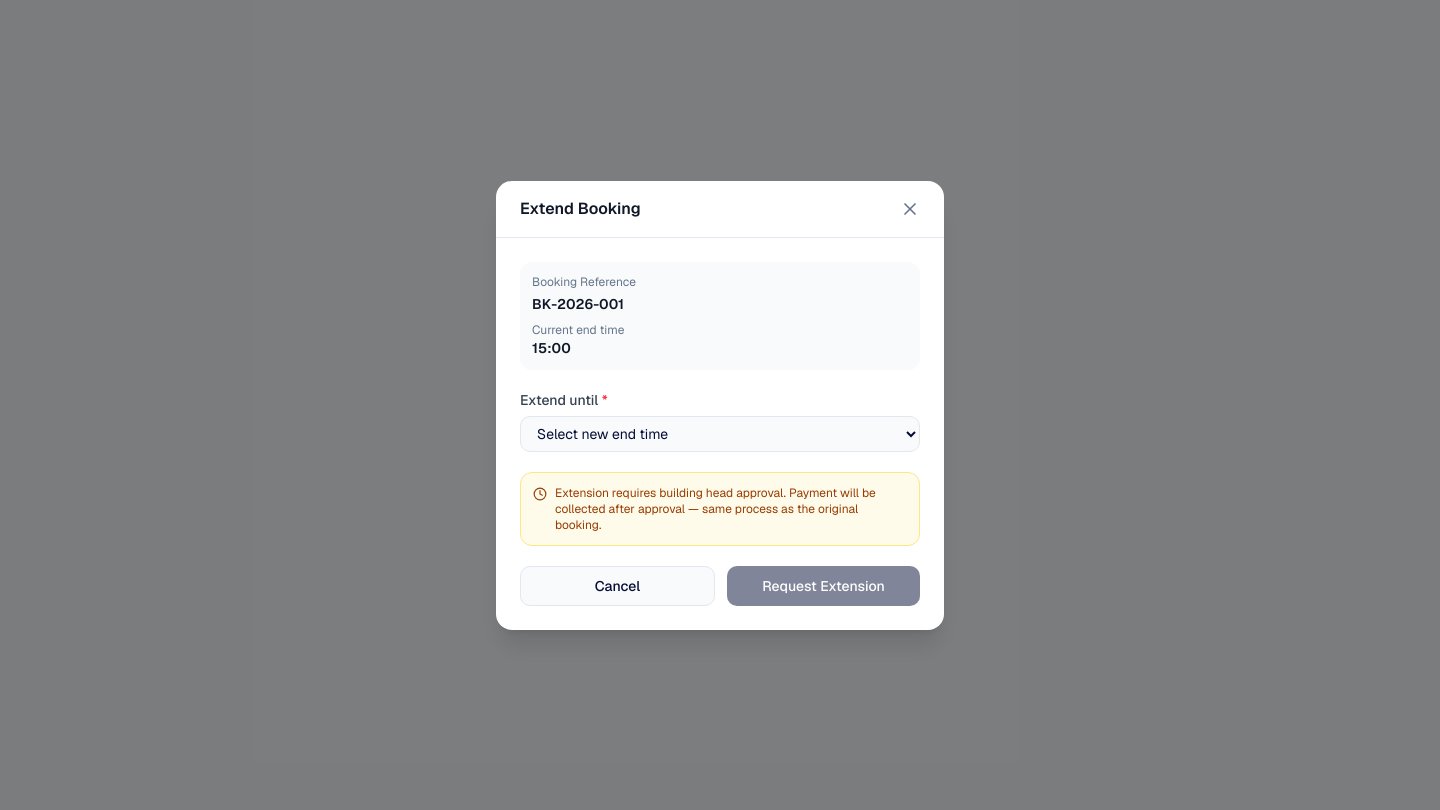
Test: ExtendBookingModal › shows custom PM cutoff in rate display text
This screenshot has width=1440, height=810.
Select "5:00 PM" in the dropdown. click: (720, 434)
box: [520,416,920,452]
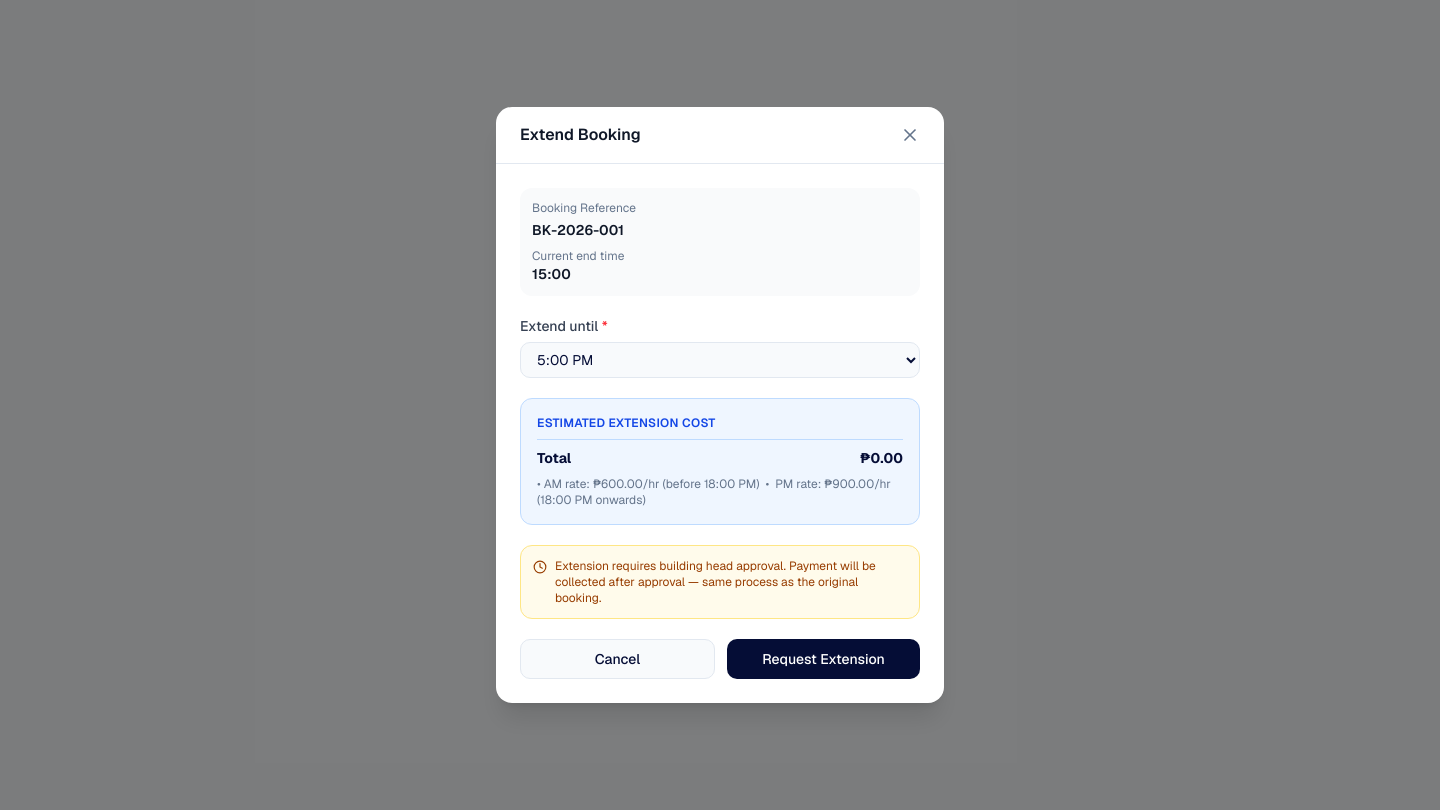
Check: the text "Estimated Extension Cost" is shown, box [537,415,716,431]
Check: the text "AM rate:" shows "18", box [704,476,716,492]
Check: the text "AM rate:" shows ":00 PM", box [716,476,824,492]
